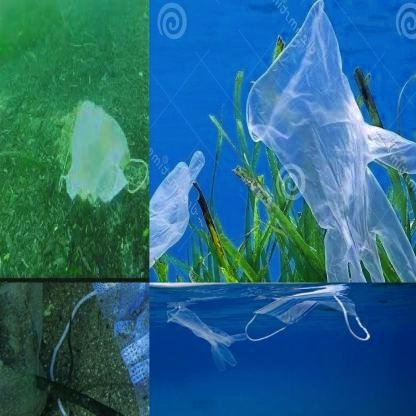Mask: (42, 70, 149, 227), (43, 283, 149, 416), (244, 290, 373, 354)
glove: (242, 0, 416, 282), (149, 140, 210, 282)
